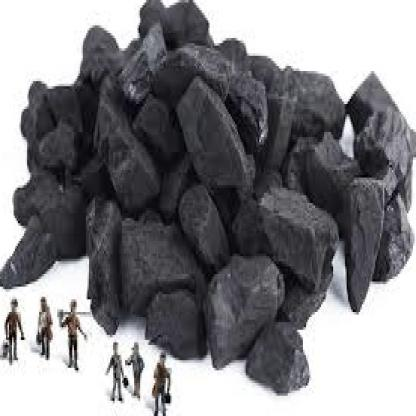Sedimentary_coal: (172, 69, 252, 200), (203, 251, 285, 368), (114, 211, 190, 317), (92, 86, 149, 203), (9, 165, 87, 241), (341, 175, 381, 317)
